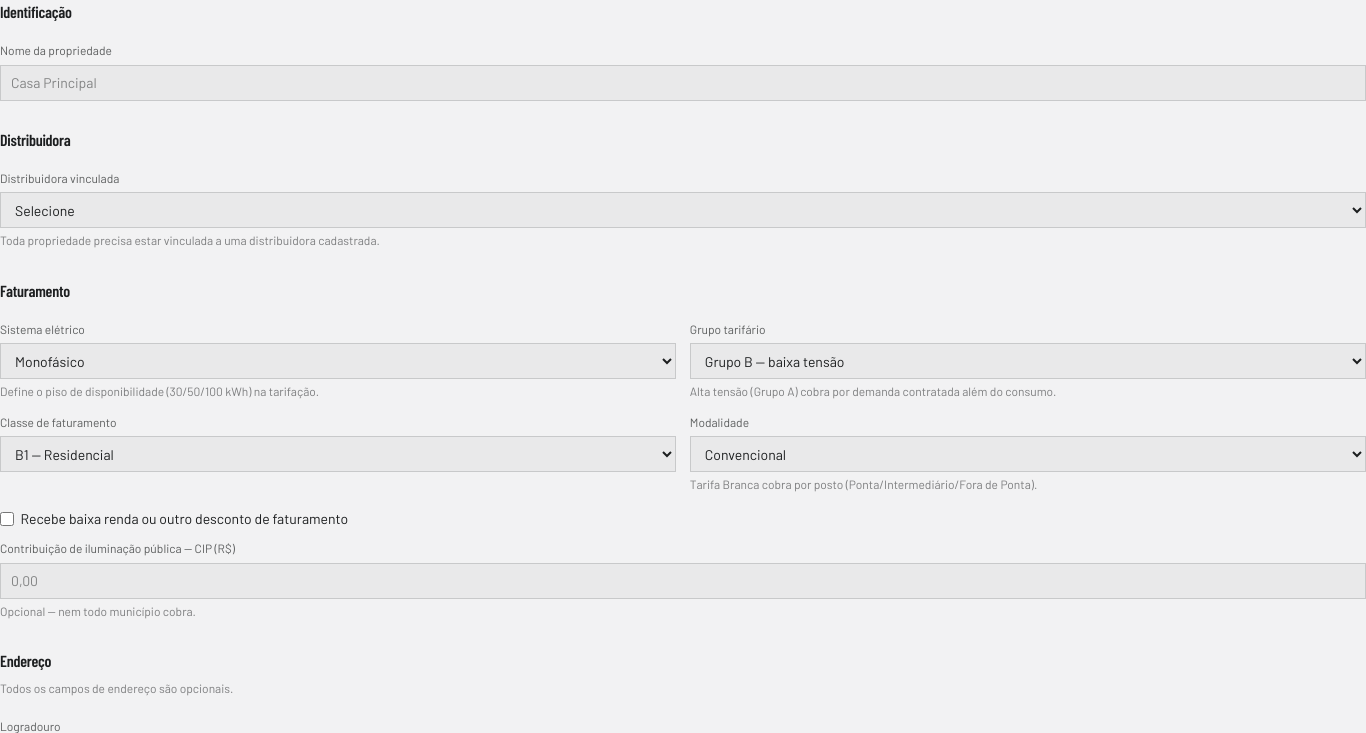
Test: PropertyForm — Mercado Livre (ACL) › esconde o ambiente de contratação e o contrato ACL ao voltar para o Grupo B
Select "Grupo A — alta tensão" in the dropdown labelled "Grupo tarifário" at [1028, 361], box [690,343,1365,379]
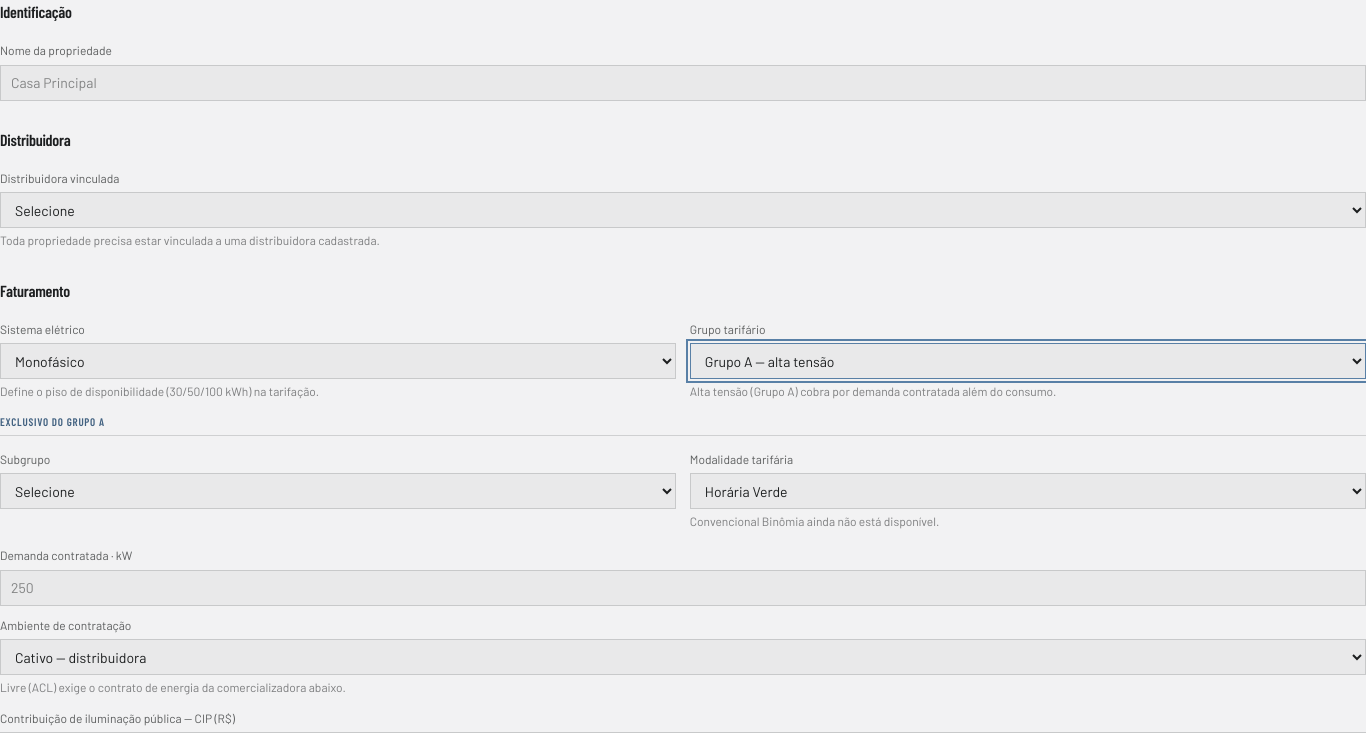
Select "Livre — mercado livre (ACL)" in the dropdown labelled "Ambiente de contratação" at [683, 657], box [0,639,1365,675]
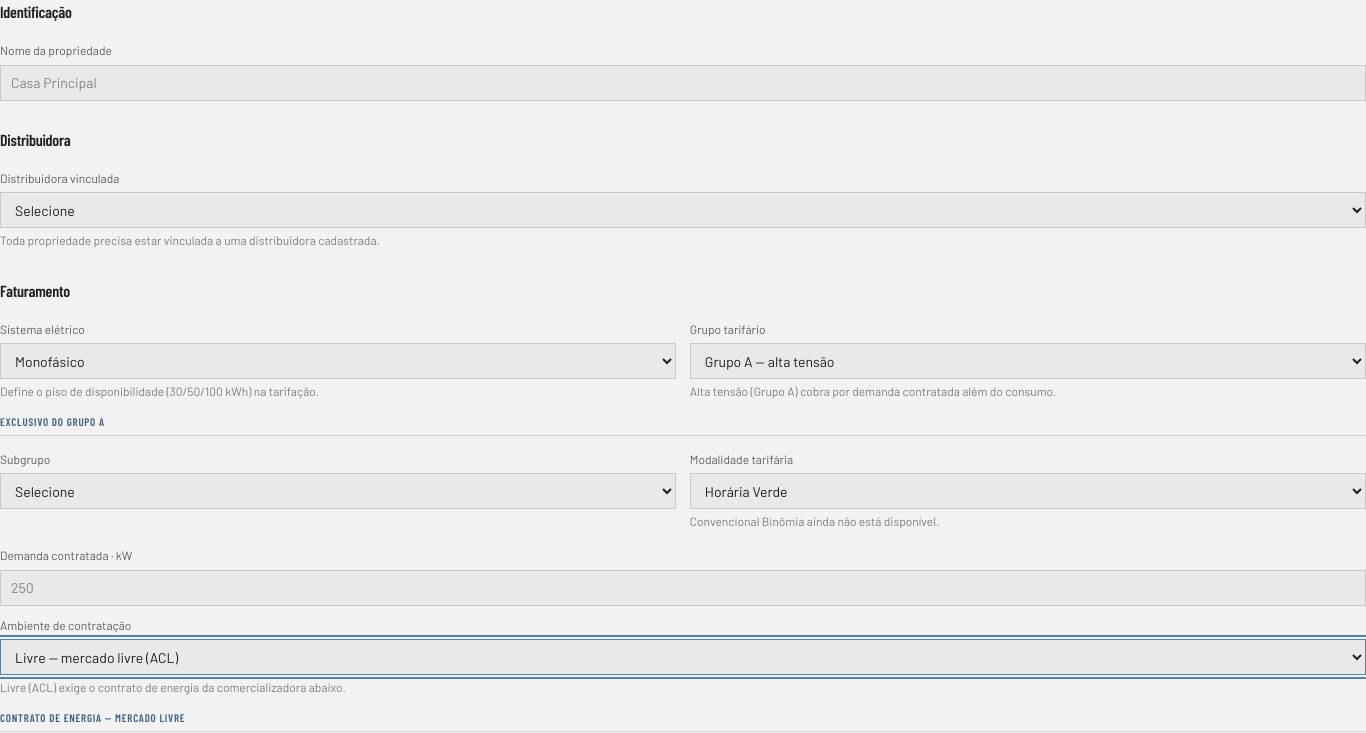
Select "Grupo B — baixa tensão" in the dropdown labelled "Grupo tarifário" at [1028, 361], box [690,343,1365,379]
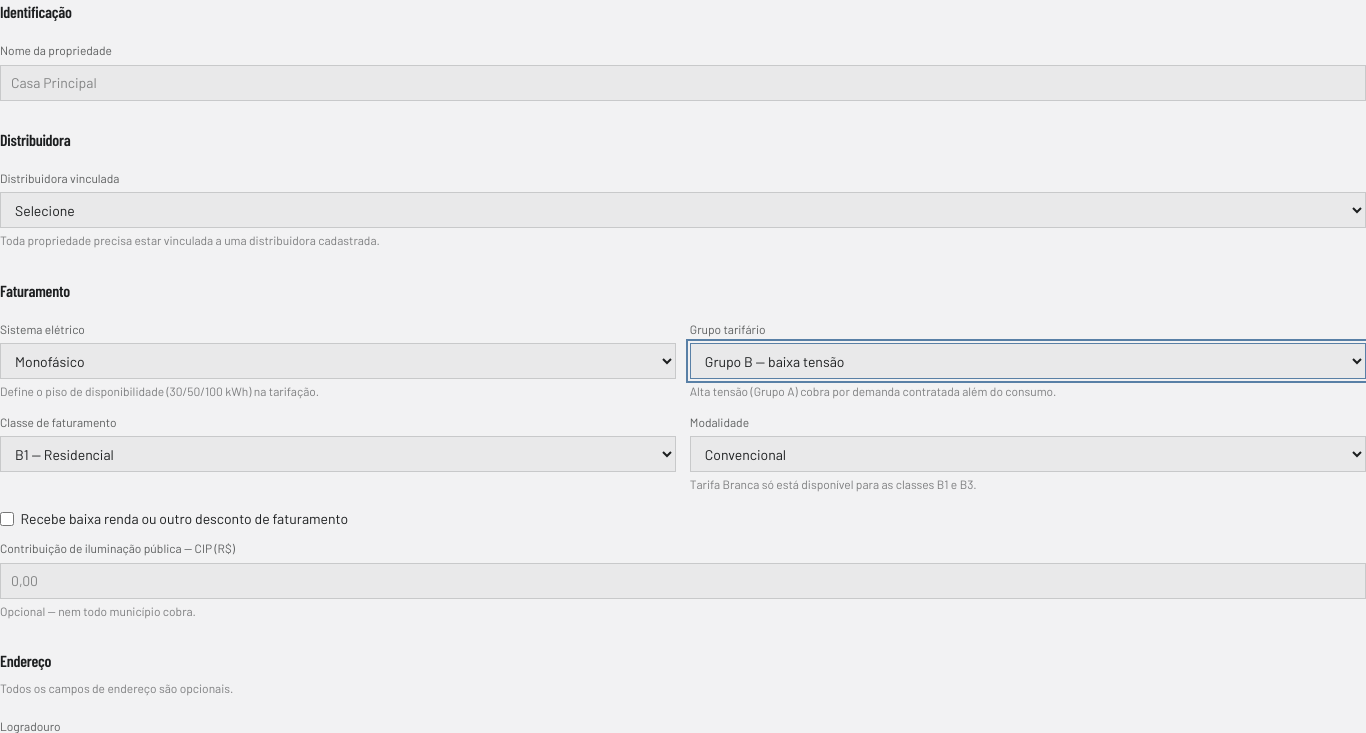
Check: the label labelled "Ambiente de contratação" is gone
Check: the text labelled "comercializadora" is gone
